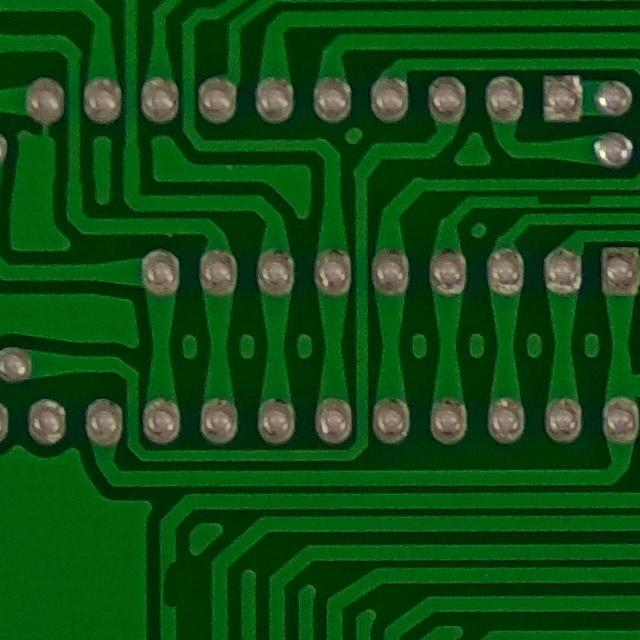mouse_bite: (151, 549, 190, 622), (529, 185, 599, 216)
